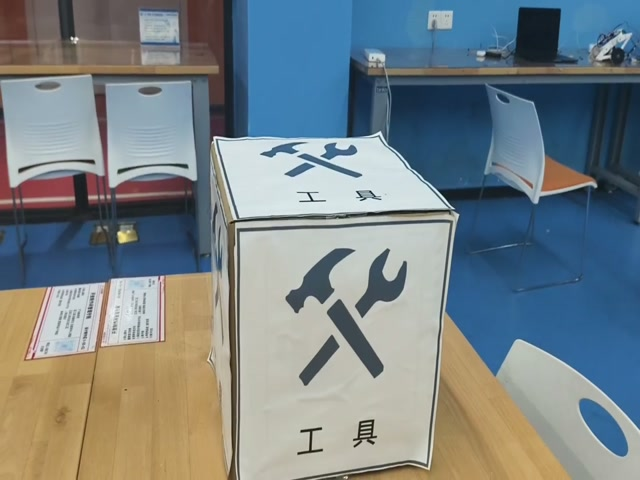Cube_tool: (212, 135, 453, 220)
